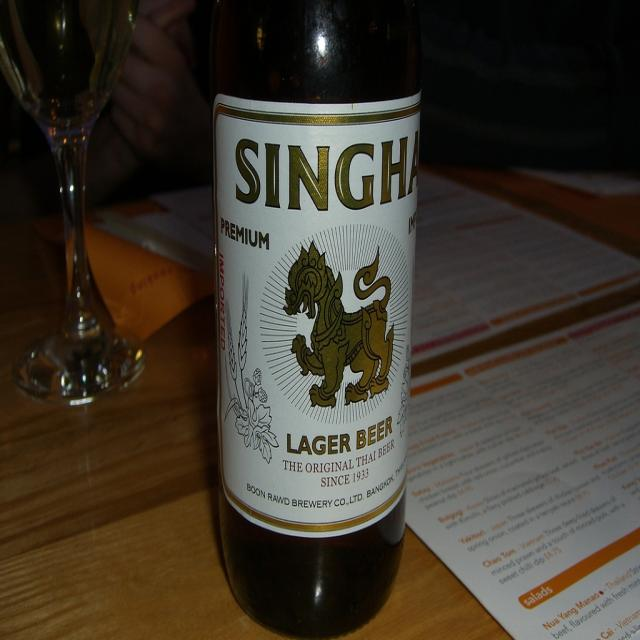singha: (215, 102, 426, 533)
